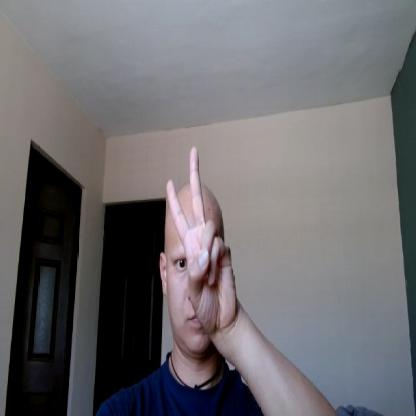V: (167, 144, 236, 330)
